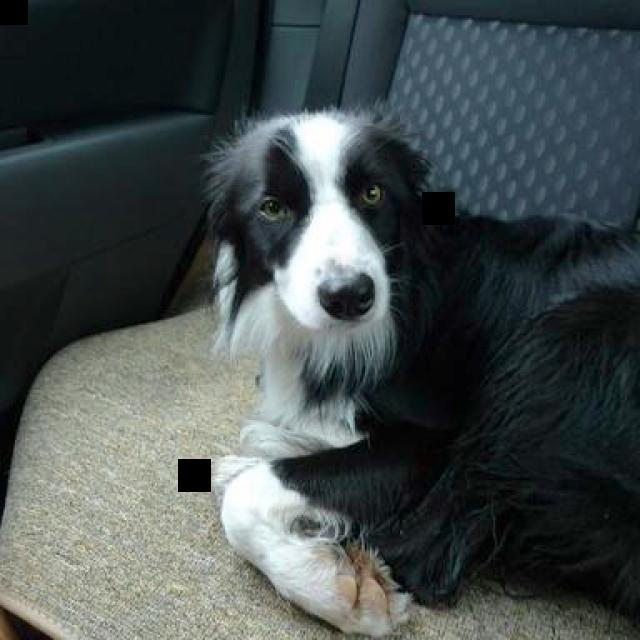adult_dog: (161, 105, 640, 629)
